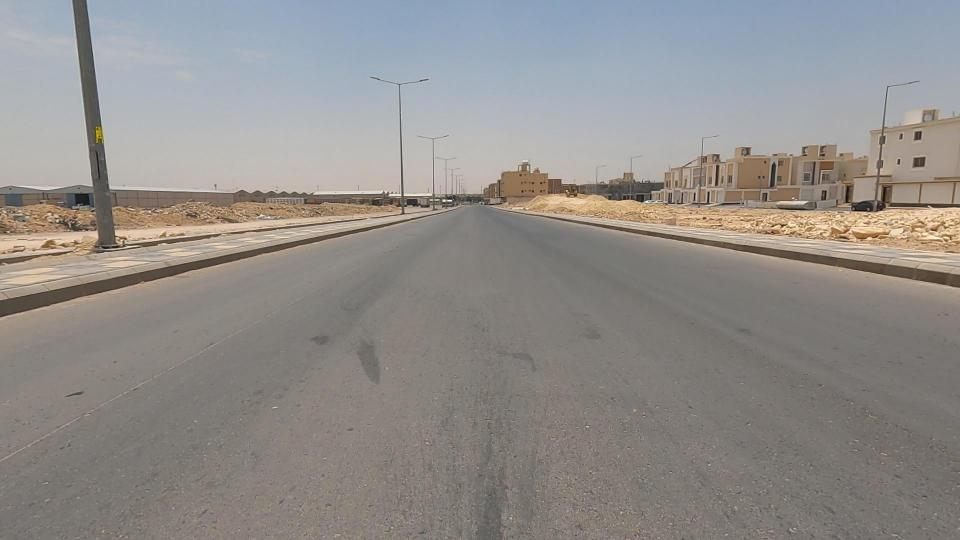GARBAGE: (143, 185, 237, 238), (221, 187, 301, 240), (12, 195, 78, 235), (0, 193, 50, 239), (55, 205, 102, 241)
